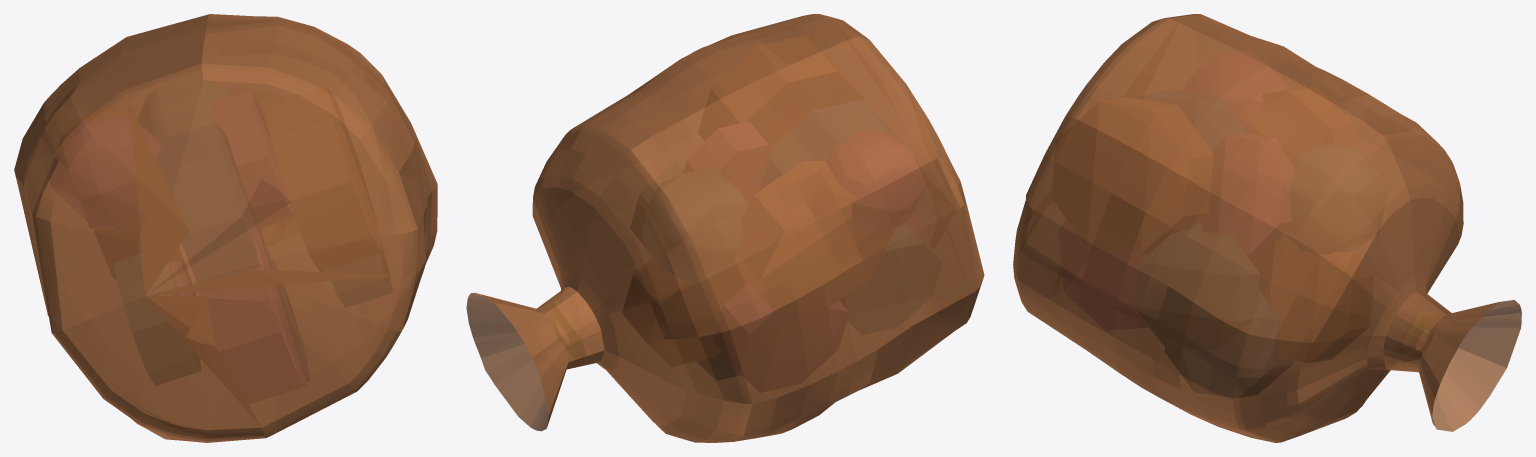
Rendered from bag3.fbx.
3 views of the same model, side by side, from view 1: azimuth 30°, elevation 25°; view 2: azimuth 150°, elevation 25°; view 3: azimuth 270°, elevation 25° (orthographic). The views are drawn at different scales.
Parts seen in each view (by area): view 1: Trash2; view 2: Trash2; view 3: Trash2.
Boxes of the visible parts, box(x1,y1,x2,y2) form: Trash2: box(14, 14, 437, 442); Trash2: box(466, 14, 984, 442); Trash2: box(1013, 14, 1521, 442).
Bounding box in the file's own units: 56.48 × 52.82 × 65.72.
